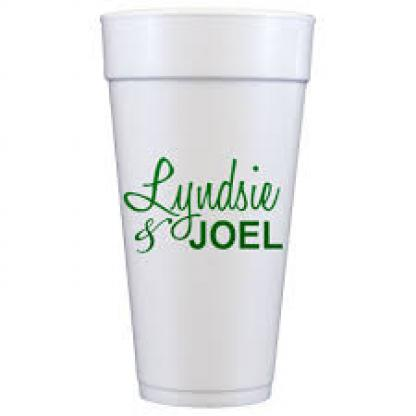paper: (96, 7, 313, 405)
